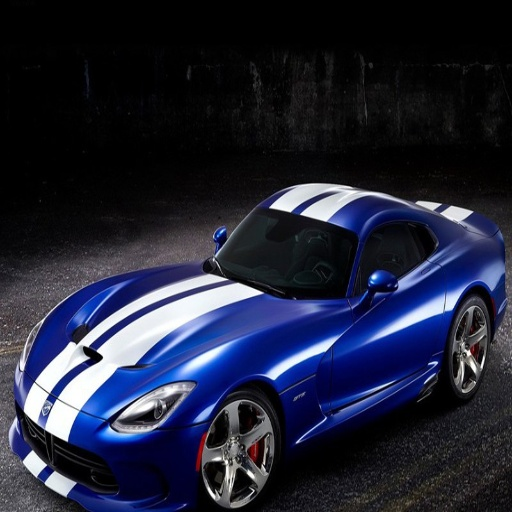front_bumper: (22, 379, 204, 511)
front_glass: (213, 205, 356, 297), (74, 286, 138, 321)
front_left_door: (319, 226, 416, 415)
